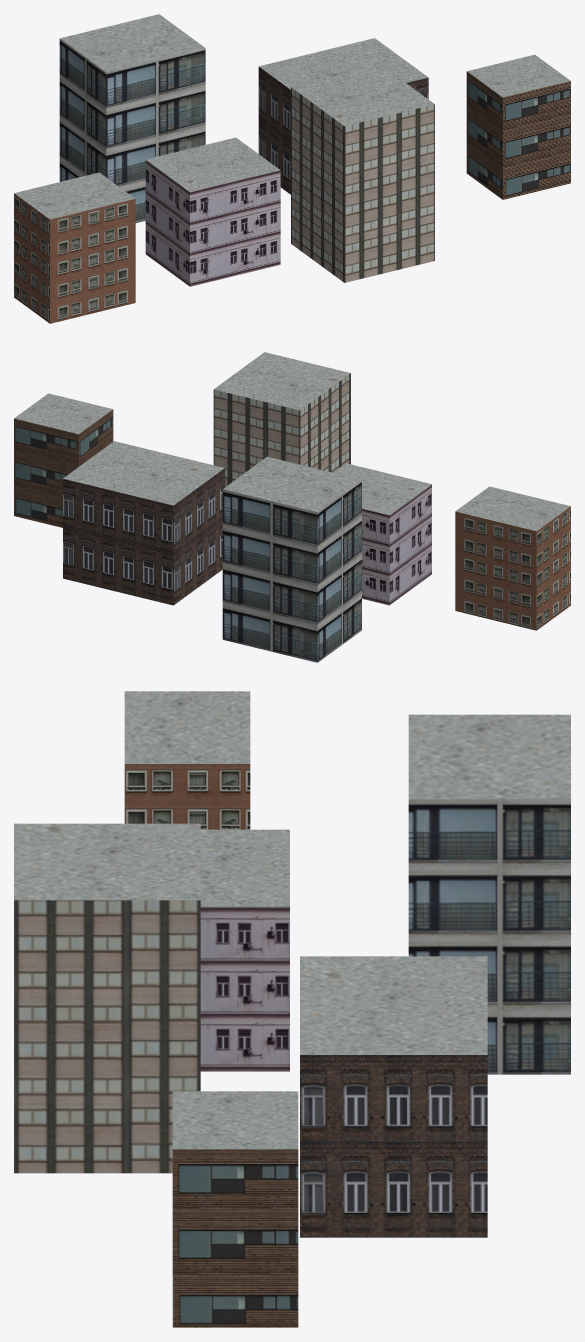
The model's file is duoge_qian03_init.FBX.
3 views of the same model, one above another, from view 1: azimuth 30°, elevation 25°; view 2: azimuth 150°, elevation 25°; view 3: azimuth 270°, elevation 25° (orthographic). The views are drawn at different scales.
Visible parts, largest first — view 1: duoge_qian03_init; view 2: duoge_qian03_init; view 3: duoge_qian03_init.
Part boxes in pixels (<box>): duoge_qian03_init: <box>14,14,570,323</box>; duoge_qian03_init: <box>14,352,570,662</box>; duoge_qian03_init: <box>14,691,570,1327</box>.
Size of the model in its own units: 13156 by 3717 by 6812.
